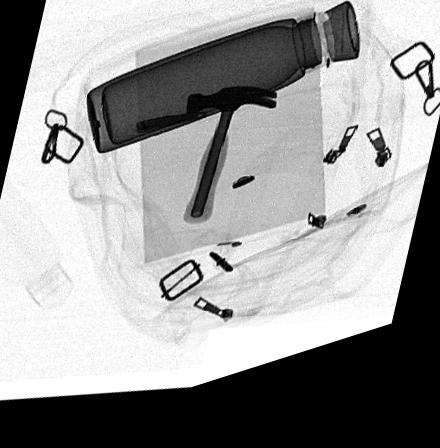Hammer: (181, 100, 277, 236)
